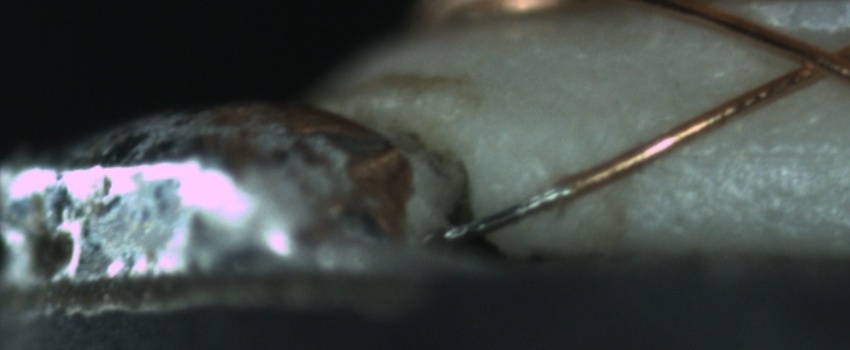CL: (774, 32, 848, 89)
DL: (677, 121, 848, 185)
TS: (437, 185, 566, 246)
